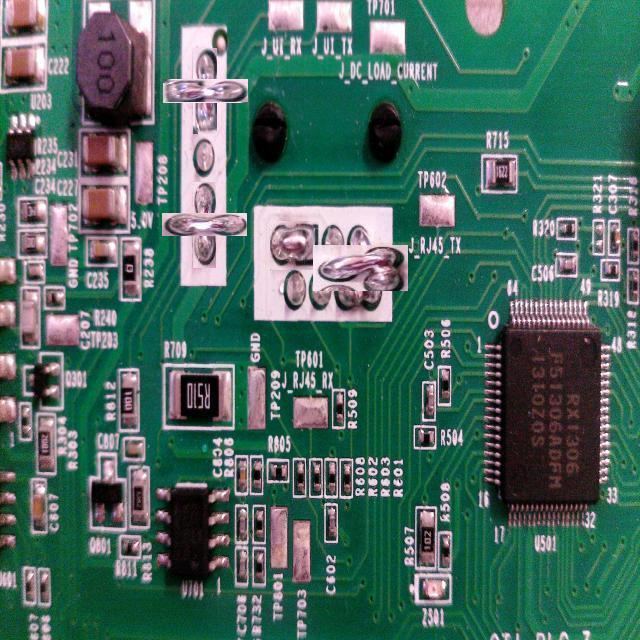Short_circuit: (325, 232, 396, 303), (178, 64, 233, 118), (177, 198, 232, 252), (270, 221, 319, 270)
